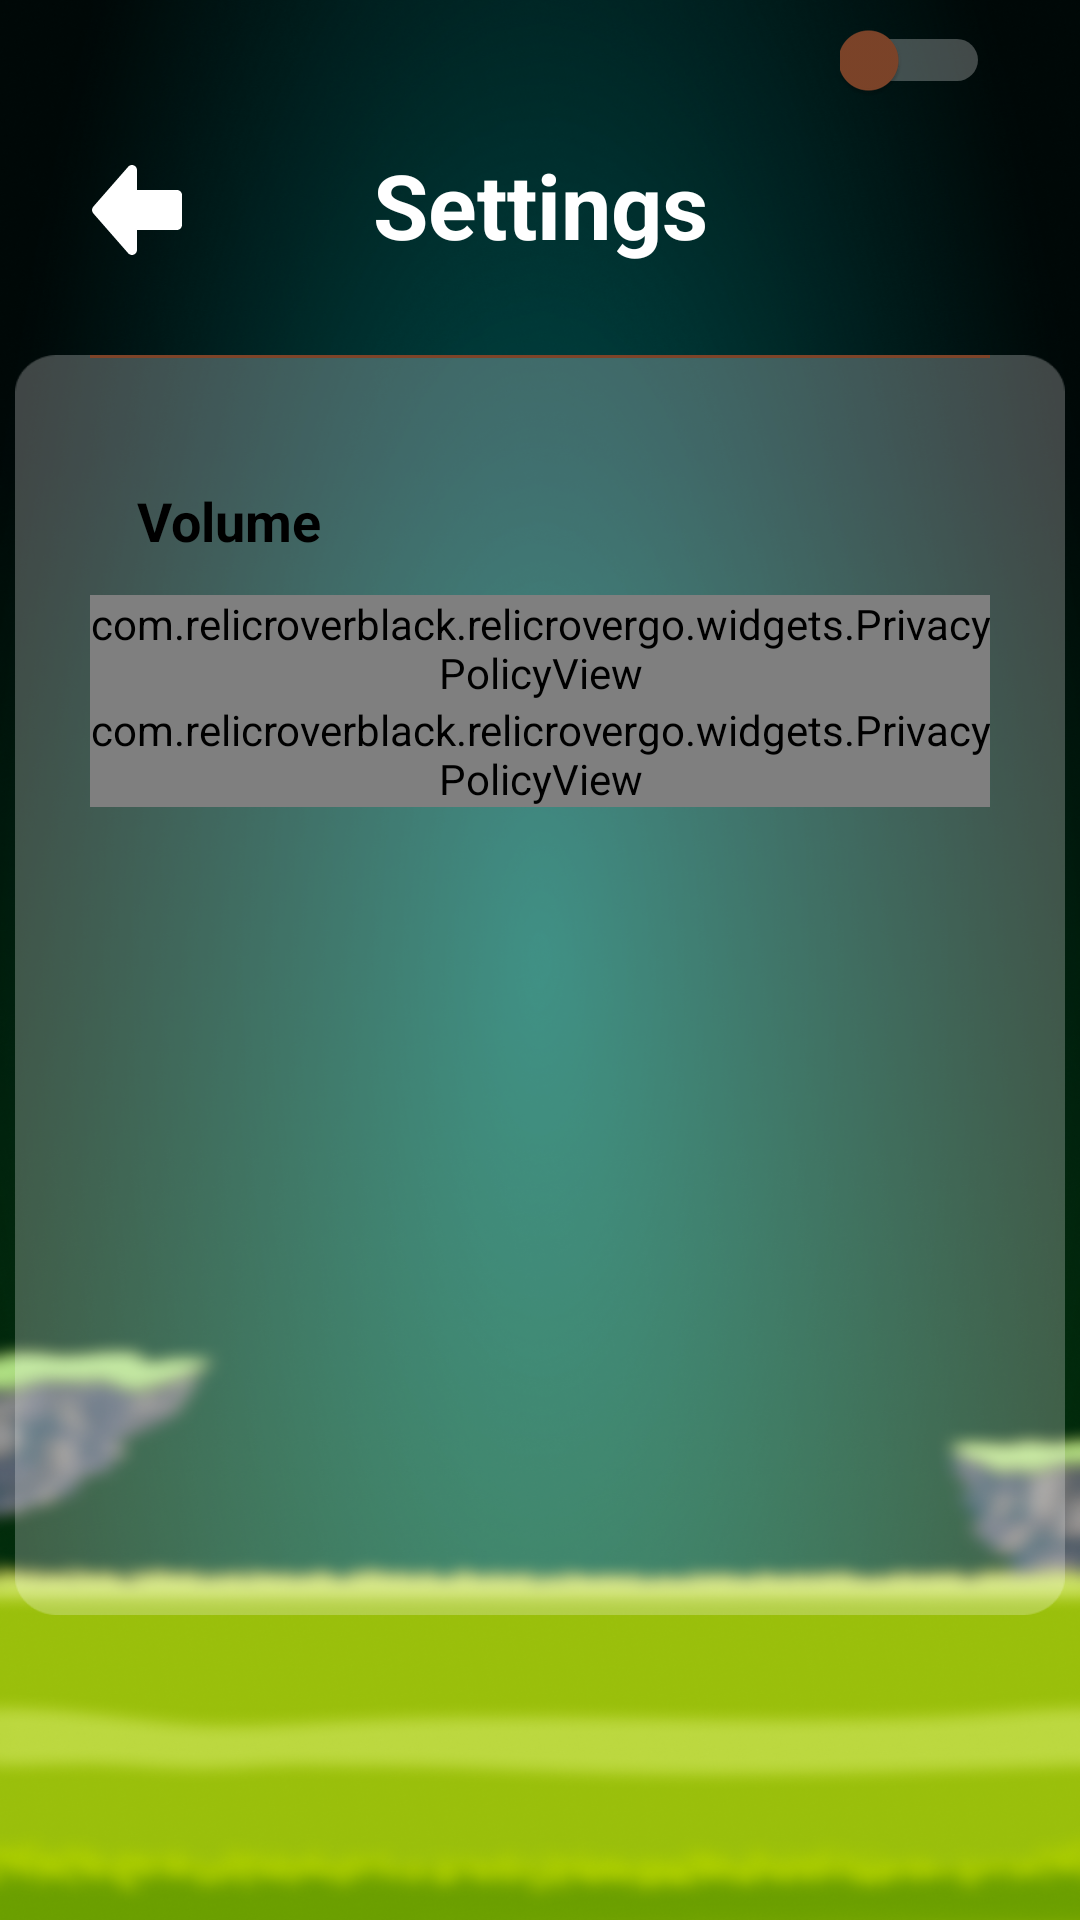

Named icons in this screenshot (1080px×1920px) and their centers, (x=x, y=y):
back: (x=137, y=210)
